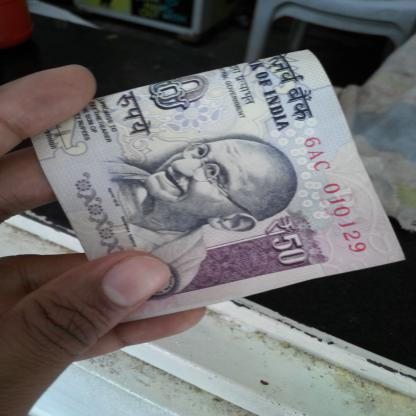Old50Front: (31, 48, 408, 323)
